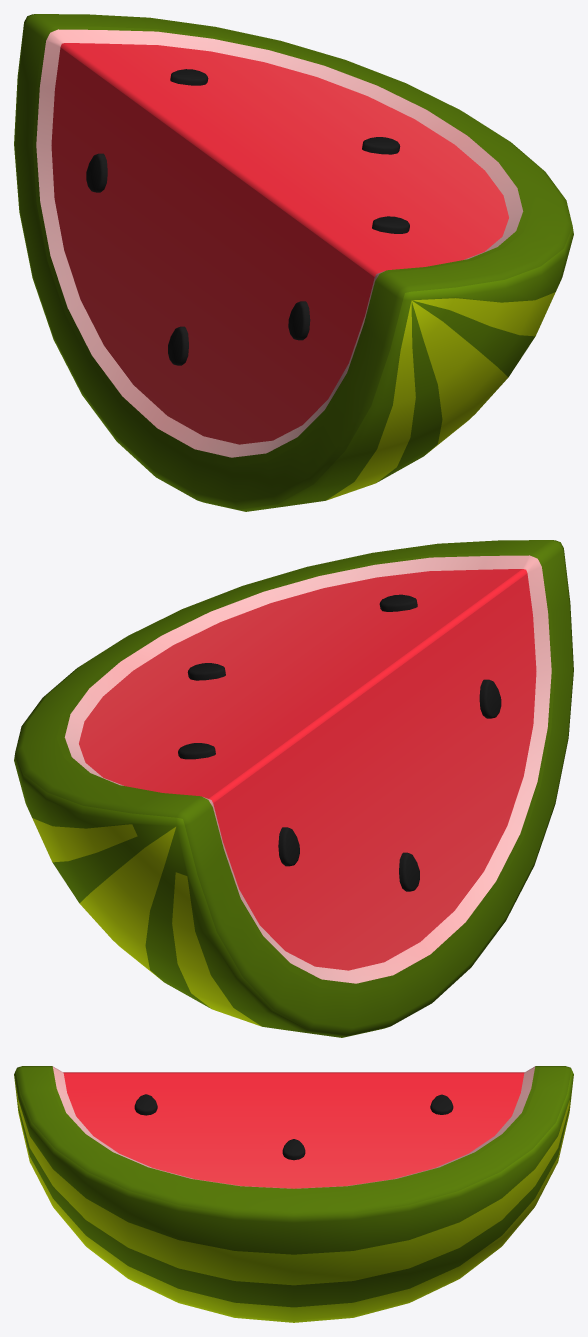
Rendered from Watermelon_V1_02.fbx.
3 views of the same model, one above another, from view 1: azimuth 30°, elevation 25°; view 2: azimuth 150°, elevation 25°; view 3: azimuth 270°, elevation 25° (orthographic). The views are drawn at different scales.
Visible parts, largest first — view 1: Watermelon_V1_02; view 2: Watermelon_V1_02; view 3: Watermelon_V1_02.
Boxes of the visible parts, x1=… form: Watermelon_V1_02: x1=14, y1=14, x2=573, y2=511; Watermelon_V1_02: x1=14, y1=540, x2=573, y2=1037; Watermelon_V1_02: x1=14, y1=1066, x2=573, y2=1322.
Bounding box in the file's own units: 35.88 × 30.65 × 66.27.
